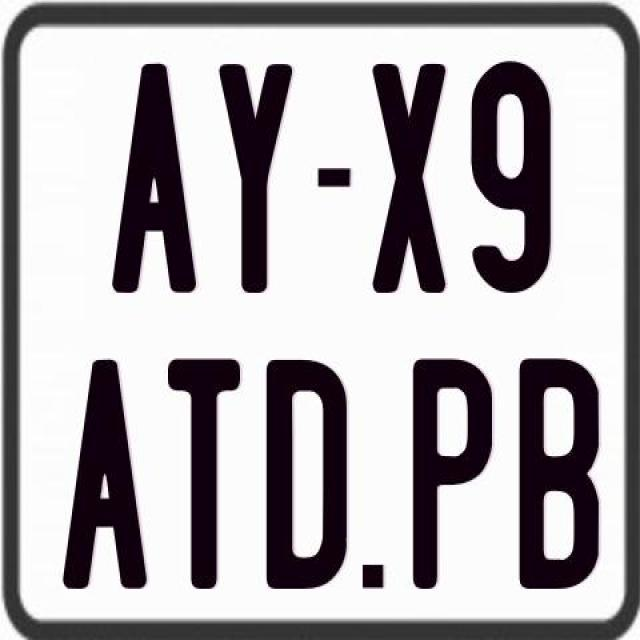9: (470, 58, 550, 298)
A: (61, 356, 148, 590), (110, 64, 194, 302)
B: (516, 356, 599, 594)
D: (266, 357, 348, 592)
P: (413, 356, 498, 594)
T: (164, 358, 236, 596)
X: (370, 60, 450, 298)
Y: (218, 61, 290, 292)
